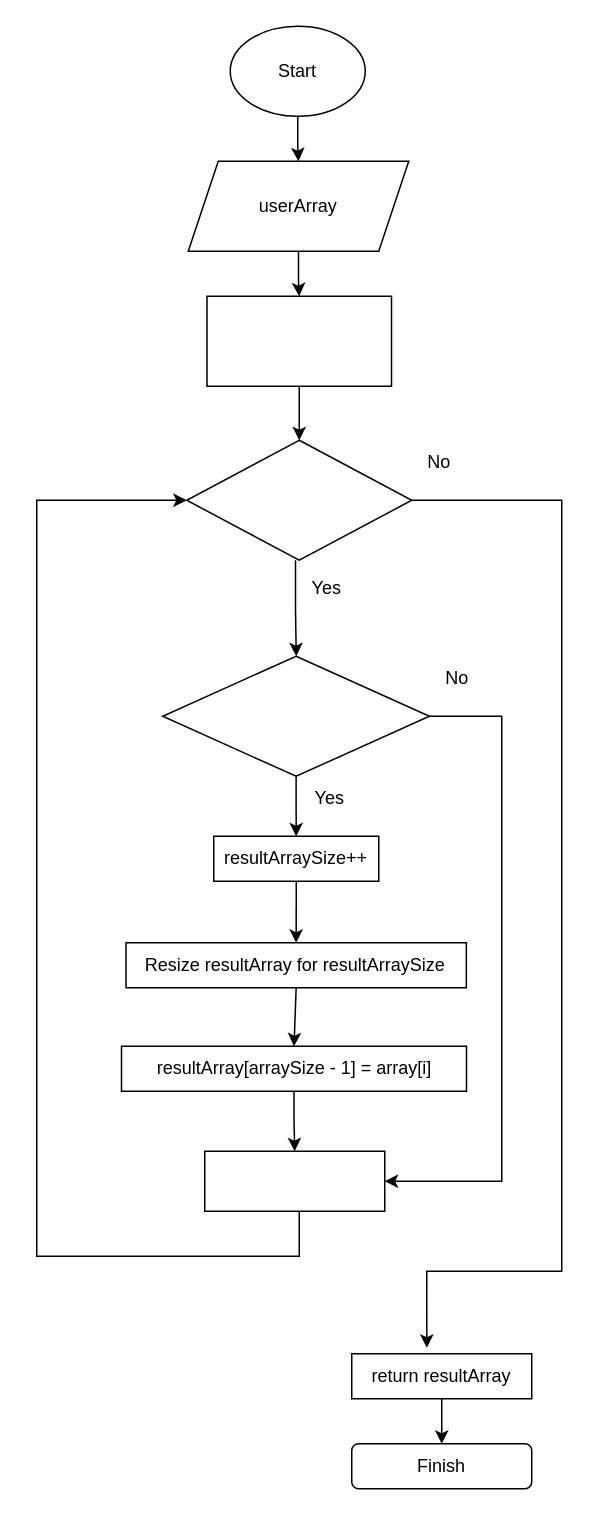
The diagram is 600 pixels wide and 1515 high, and some of its shapes have lost their labels. The box of each missing label's shape, as (x1, y1, x2, y2) in pixels:
i < userArray.Length: (185, 439, 412, 560)
i = 0 resultArray resultArraySize = 0: (206, 295, 392, 386)
i = i +1: (203, 1150, 385, 1211)
userArray[i].Length <= 3: (161, 655, 429, 776)
